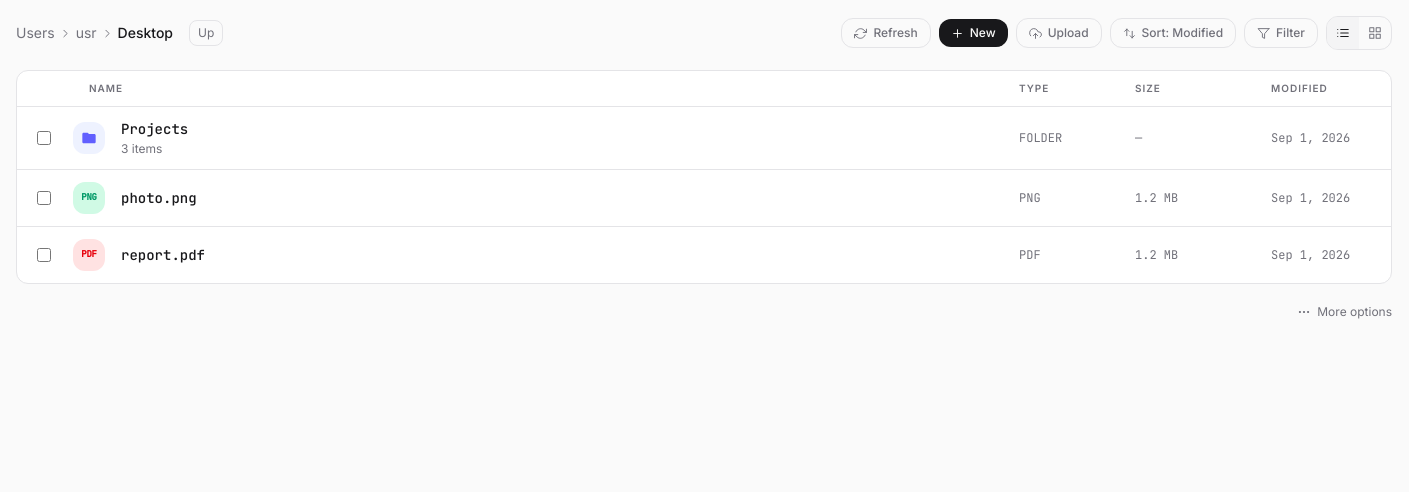
it: Files › keeps folders visible while file-type filtering is active
This screenshot has width=1409, height=492.
Click the button "Filter": (1281, 33) [1244,18,1318,48]
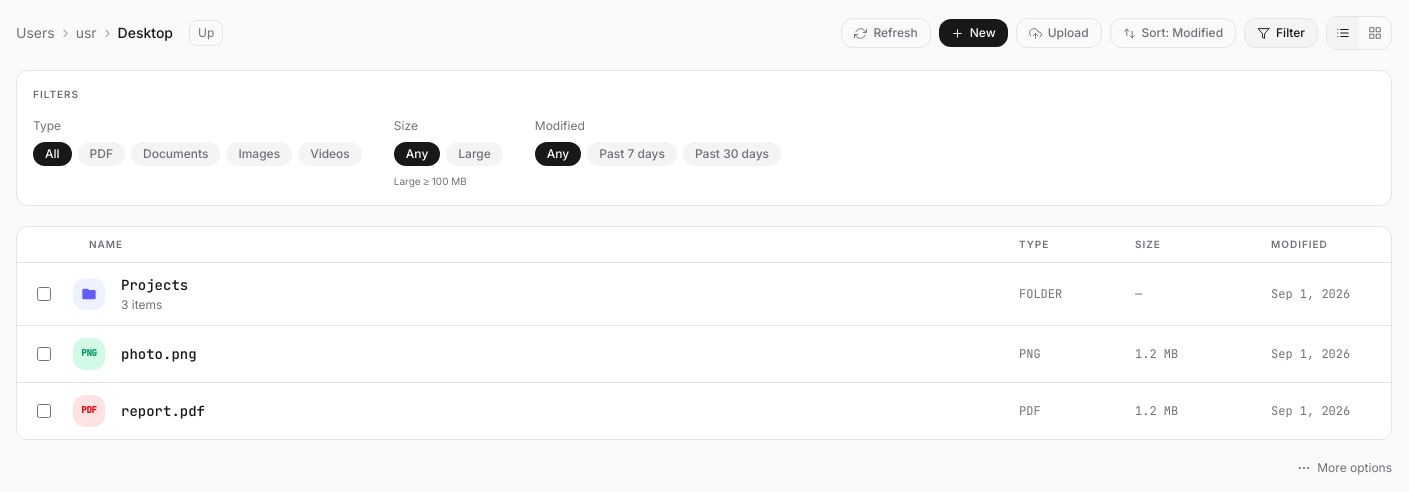
Click the button "Images": (259, 154) [226,142,292,166]
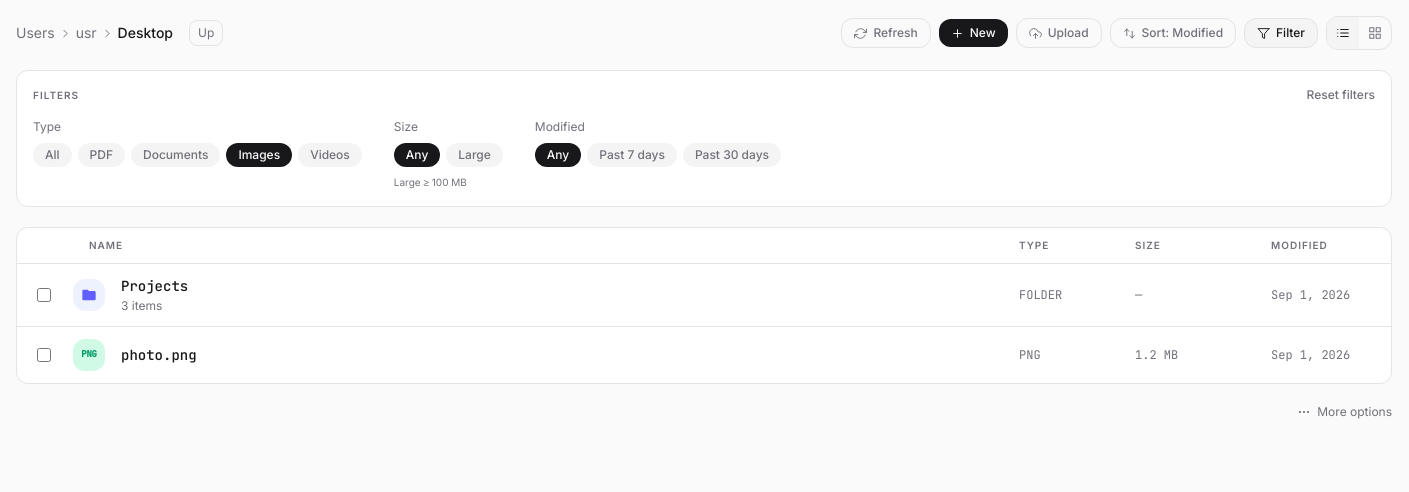
Expected: the text "Projects" is shown, [121,276,188,296]
Result: the text "report.pdf" is gone
